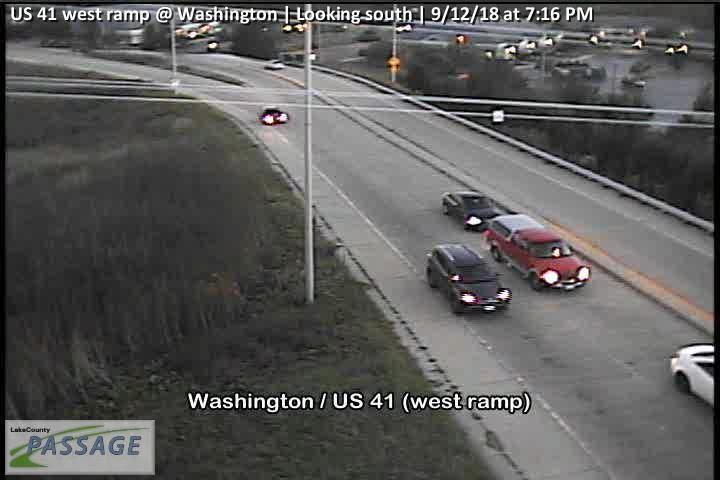SUV: (484, 213, 591, 292), (426, 244, 511, 315)
Sedan: (442, 190, 503, 233), (260, 107, 289, 125)
